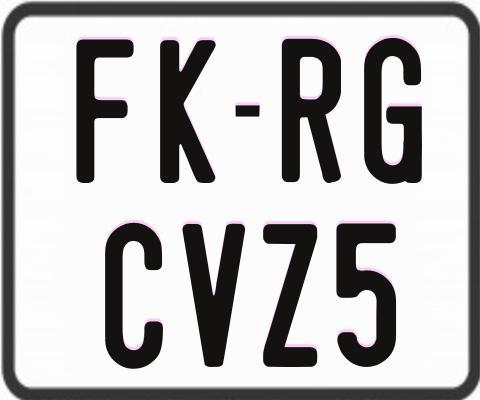5: (334, 223, 398, 371)
C: (103, 221, 161, 371)
F: (75, 37, 138, 181)
G: (363, 38, 427, 187)
K: (158, 37, 220, 183)
R: (282, 39, 342, 189)
V: (180, 223, 247, 371)
Z: (262, 223, 317, 372)
